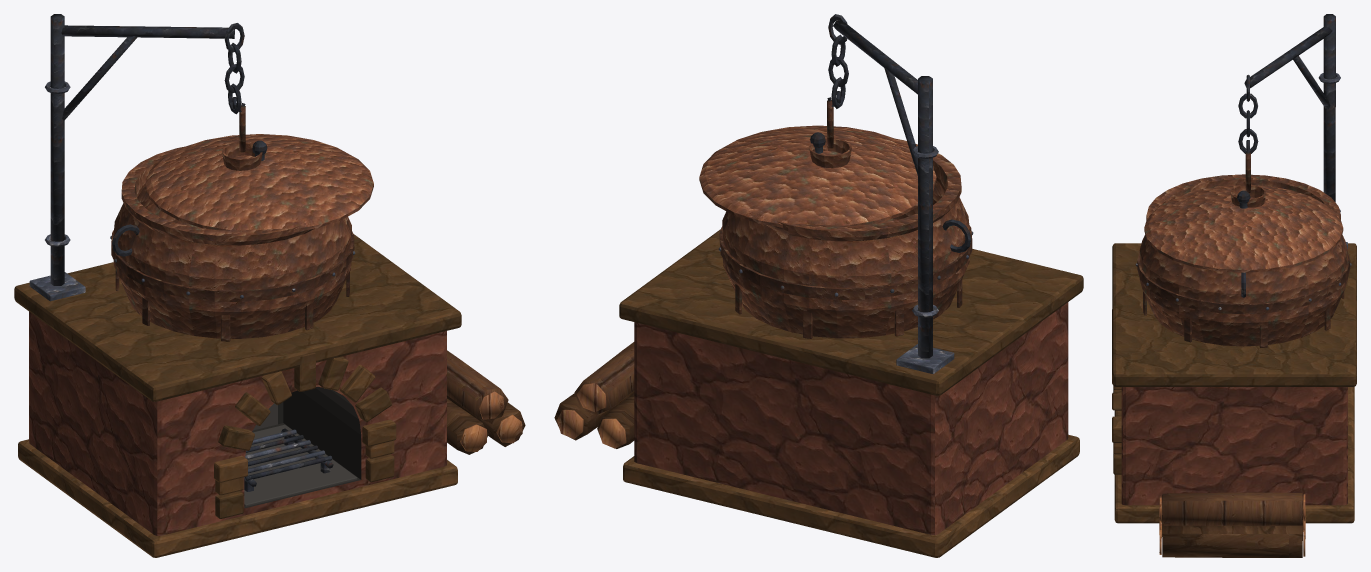
Rendered from rb_brew_kettle.glb.
The picture shows the model from 3 angles, left to right: view 1: azimuth 30°, elevation 25°; view 2: azimuth 150°, elevation 25°; view 3: azimuth 270°, elevation 25°; orthographic projection. The views are drawn at different scales.
Visible parts, largest first — view 1: model; view 2: model; view 3: model.
Boxes of the visible parts, box(x1,y1,x2,y2) form: model: box(14, 14, 525, 557); model: box(554, 14, 1083, 557); model: box(1112, 14, 1356, 557).
Bounding box in the file's own units: 1.79 × 1.9 × 1.08.
15 materials, 13 textured.
